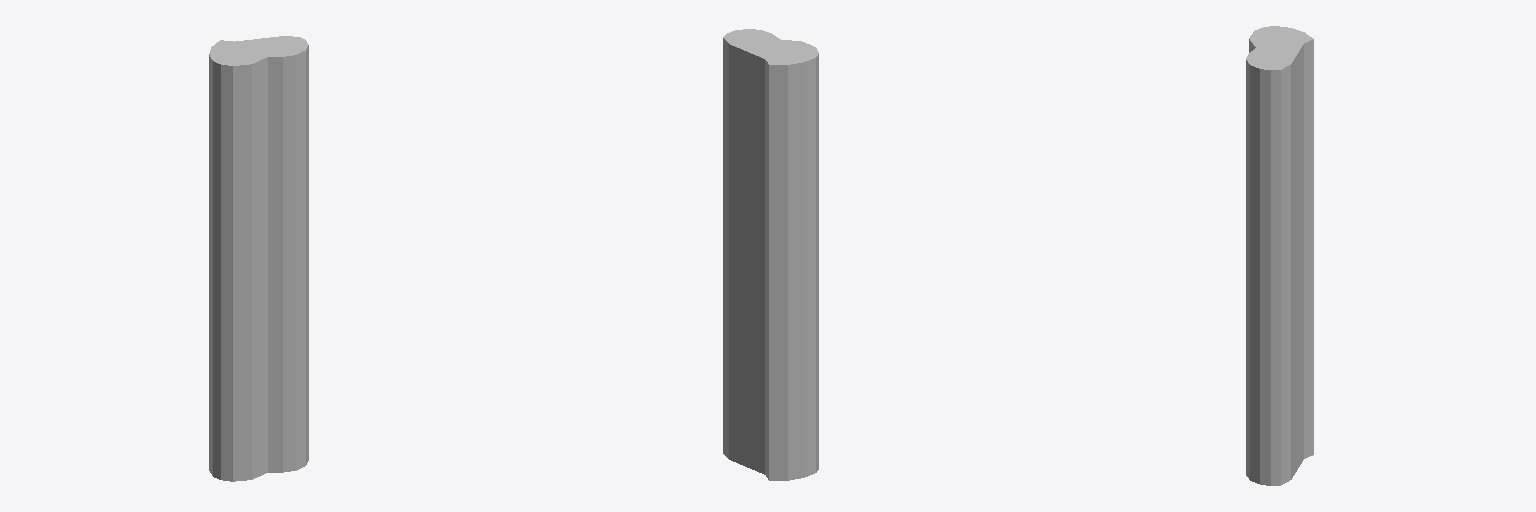
3 renders of one model, left to right at view 1: azimuth 30°, elevation 25°; view 2: azimuth 150°, elevation 25°; view 3: azimuth 270°, elevation 25°, orthographic.
Visible parts, largest first — view 1: TF.002_CUCurve.1738; view 2: TF.002_CUCurve.1738; view 3: TF.002_CUCurve.1738.
Boxes of the visible parts, x1,y1,x2,y2 form: TF.002_CUCurve.1738: [209, 36, 308, 481]; TF.002_CUCurve.1738: [723, 29, 818, 480]; TF.002_CUCurve.1738: [1246, 26, 1313, 485].
Bounding box in the file's own units: 0.0115 × 0.05 × 0.0074.